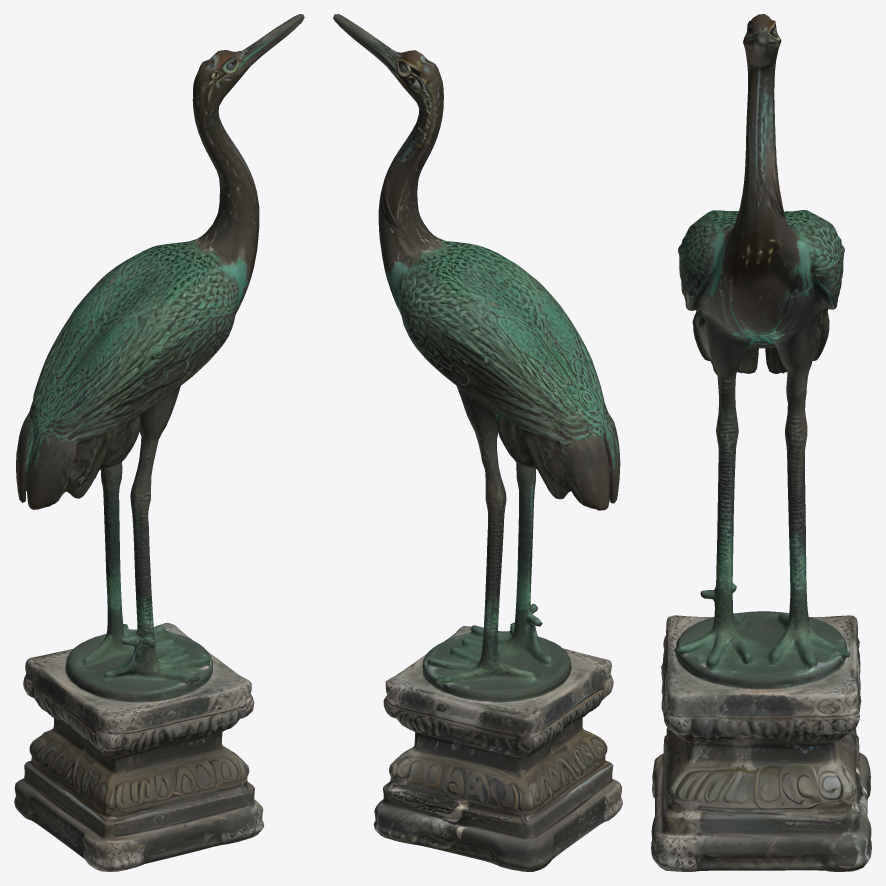
File: tonghe.glb
3 renders of one model, left to right at view 1: azimuth 30°, elevation 25°; view 2: azimuth 150°, elevation 25°; view 3: azimuth 270°, elevation 25°, orthographic. The views are drawn at different scales.
Visible parts, largest first — view 1: tripo_node_e5e62f2d-5dc4-42e3-91d1-88b3093192d7; view 2: tripo_node_e5e62f2d-5dc4-42e3-91d1-88b3093192d7; view 3: tripo_node_e5e62f2d-5dc4-42e3-91d1-88b3093192d7.
Boxes of the visible parts, x1,y1,x2,y2 form: tripo_node_e5e62f2d-5dc4-42e3-91d1-88b3093192d7: (14,14,304,871); tripo_node_e5e62f2d-5dc4-42e3-91d1-88b3093192d7: (333,14,622,871); tripo_node_e5e62f2d-5dc4-42e3-91d1-88b3093192d7: (651,14,871,871).
Size of the model in its own units: 0.3806 by 0.9999 by 0.2269.
1 material, 1 textured.
